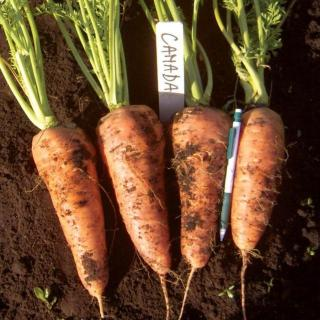carrot: (27, 117, 107, 301), (94, 100, 170, 278), (171, 104, 227, 270), (228, 106, 286, 256)
